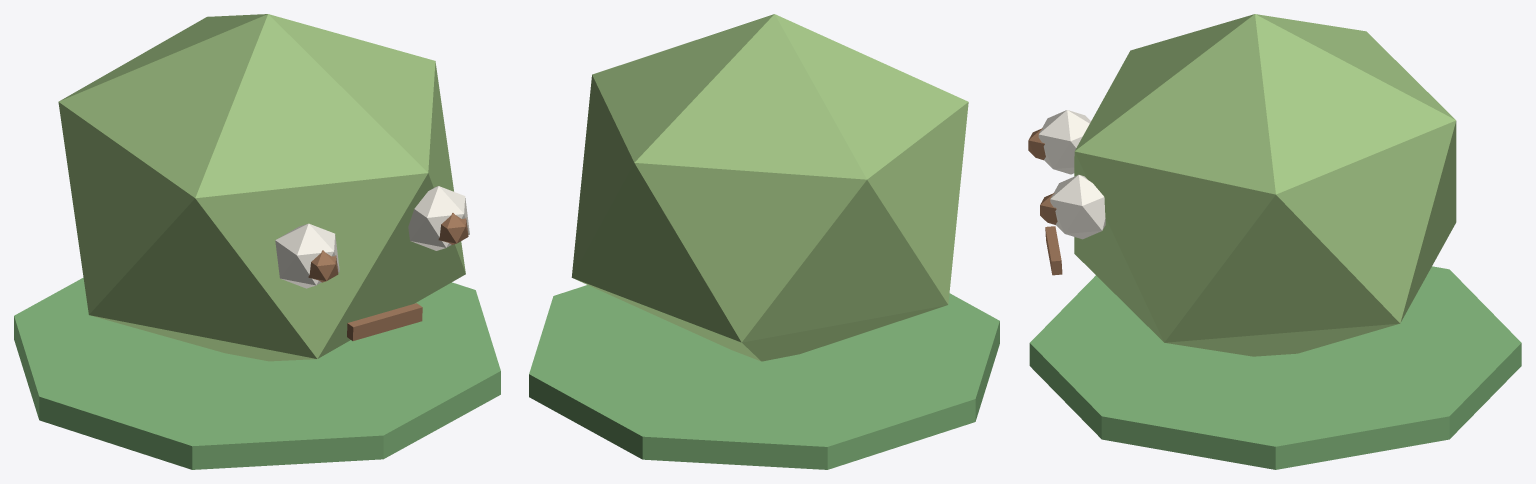
The model's file is npcpose_slime_idle_02.glb.
3 renders of one model, left to right at view 1: azimuth 30°, elevation 25°; view 2: azimuth 150°, elevation 25°; view 3: azimuth 270°, elevation 25°, orthographic. The views are drawn at different scales.
Visible parts, largest first — view 1: npcpose; view 2: npcpose; view 3: npcpose.
Boxes of the visible parts, box(x1,y1,x2,y2) form: npcpose: box(14, 14, 500, 469); npcpose: box(529, 14, 999, 469); npcpose: box(1028, 14, 1521, 469).
Size of the model in its own units: 0.96 by 0.7583 by 0.9628.
